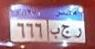6: (35, 22, 43, 40), (16, 22, 25, 38), (26, 22, 34, 39)
baa: (50, 26, 61, 40)
jeem: (61, 24, 72, 40)
raa: (73, 26, 82, 40)
